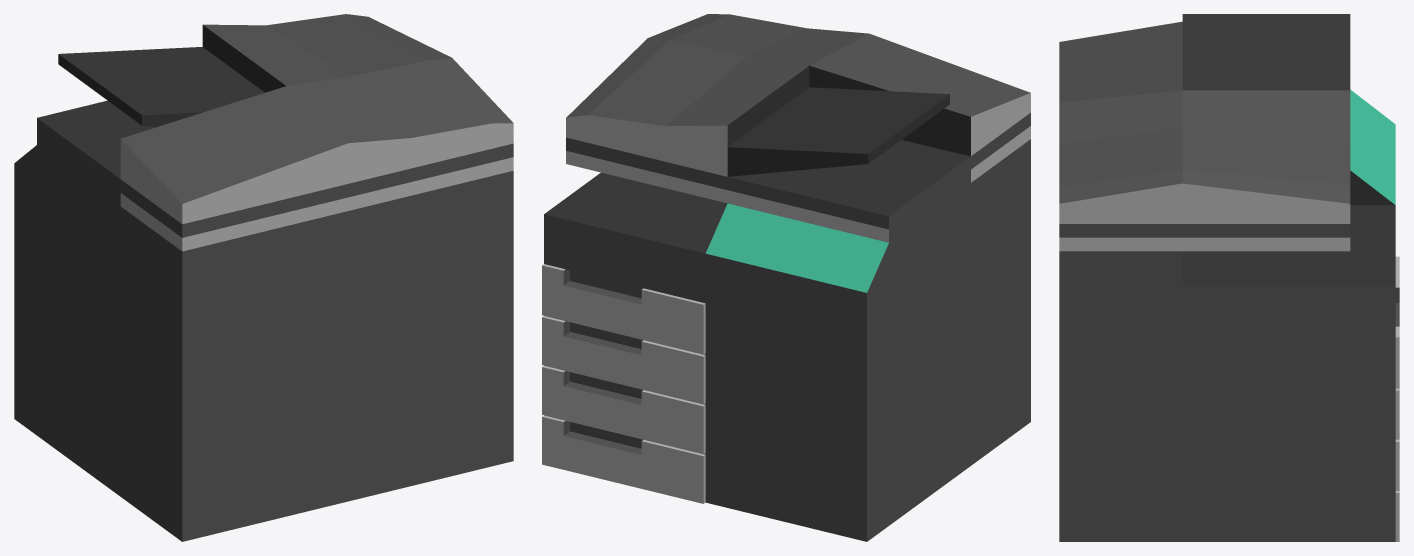
The model's file is Printer.fbx.
3 views of the same model, side by side, from view 1: azimuth 30°, elevation 25°; view 2: azimuth 150°, elevation 25°; view 3: azimuth 270°, elevation 25° (orthographic). The views are drawn at different scales.
Parts seen in each view (by area): view 1: Printer; view 2: Printer; view 3: Printer.
Part boxes in pixels (x1,y1,x2,y2): Printer: (14,14,513,541); Printer: (542,14,1030,541); Printer: (1059,14,1399,541).
Bounding box in the file's own units: 135 × 147 × 120.
